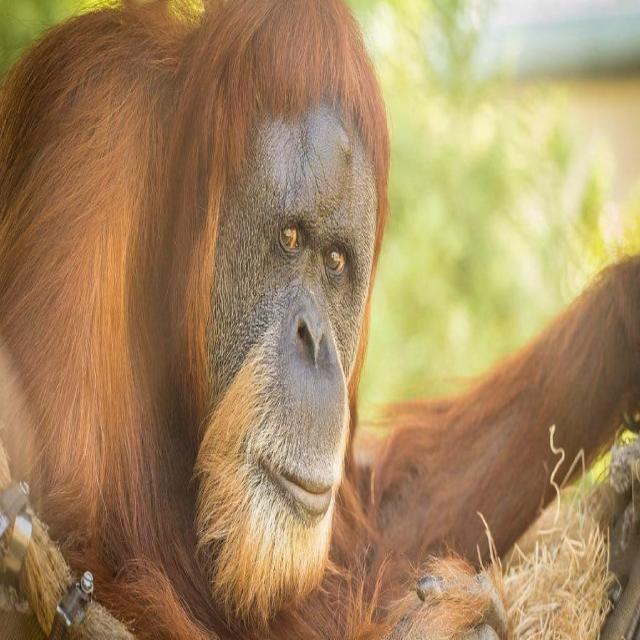Orangutan: (0, 0, 410, 640)
